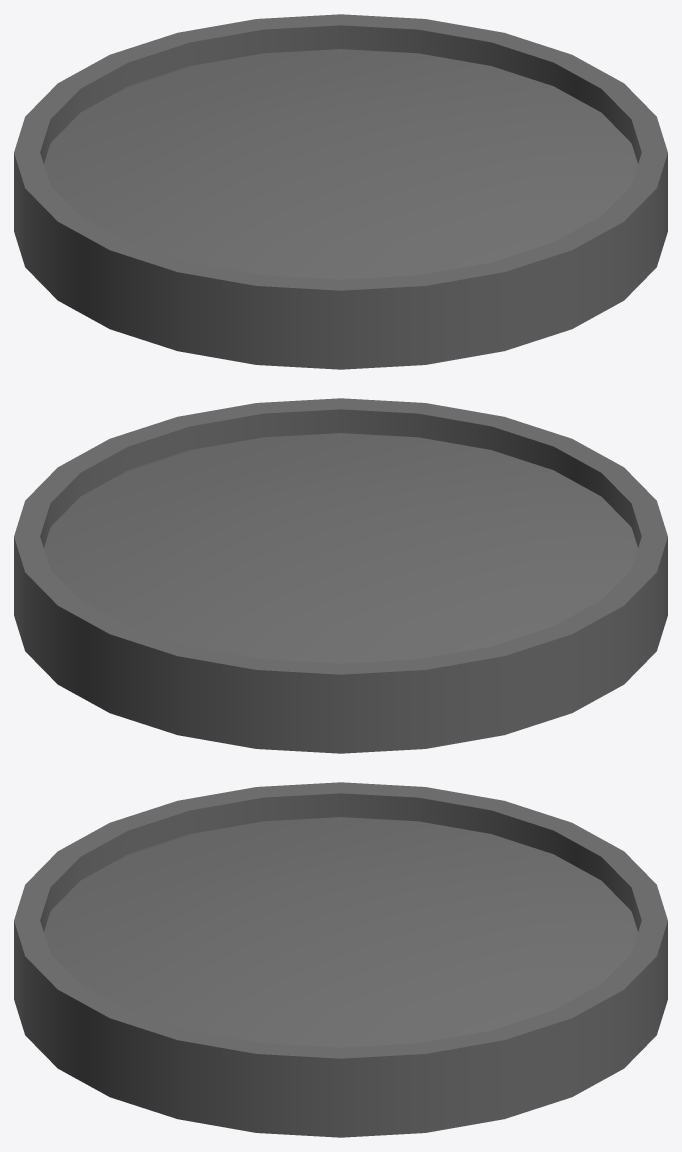
The model's file is alnair_parachute_s0p5_1.obj.
3 renders of one model, top to bottom at view 1: azimuth 30°, elevation 25°; view 2: azimuth 150°, elevation 25°; view 3: azimuth 270°, elevation 25°, orthographic.
Parts seen in each view (by area): view 1: cap1, mesh1; view 2: cap1, mesh1; view 3: cap1, mesh1.
Part boxes in pixels (<box>): cap1: <box>44,49,637,279</box>; mesh1: <box>14,14,667,369</box>; cap1: <box>44,433,637,663</box>; mesh1: <box>14,398,667,753</box>; cap1: <box>44,817,637,1047</box>; mesh1: <box>14,782,667,1137</box>.
Size of the model in its own units: 0.9375 by 0.125 by 0.9375.
Materials: 2 (2 with a texture image).
